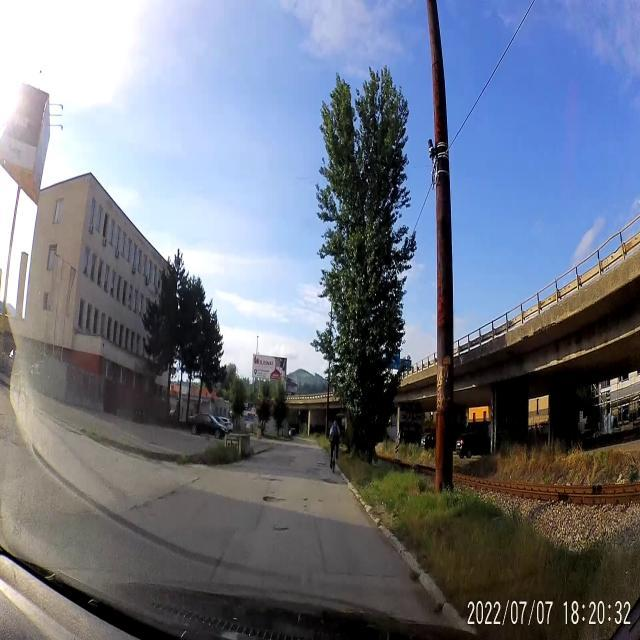Pothole: (260, 490, 290, 510), (274, 520, 292, 536), (262, 476, 286, 486), (320, 478, 340, 488), (316, 458, 326, 468), (316, 496, 322, 504), (303, 496, 308, 502)
